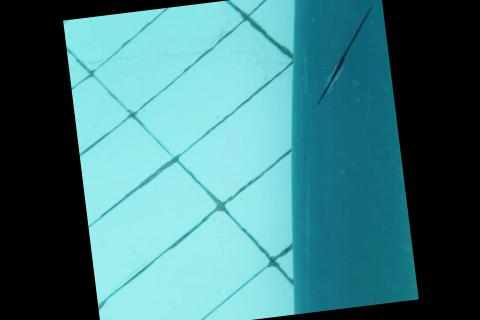keretakan: (303, 4, 384, 106)
